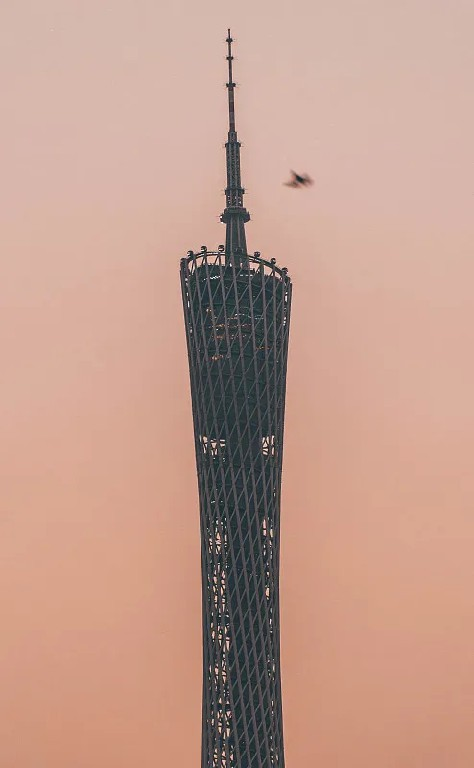Canton: (178, 25, 293, 768)
